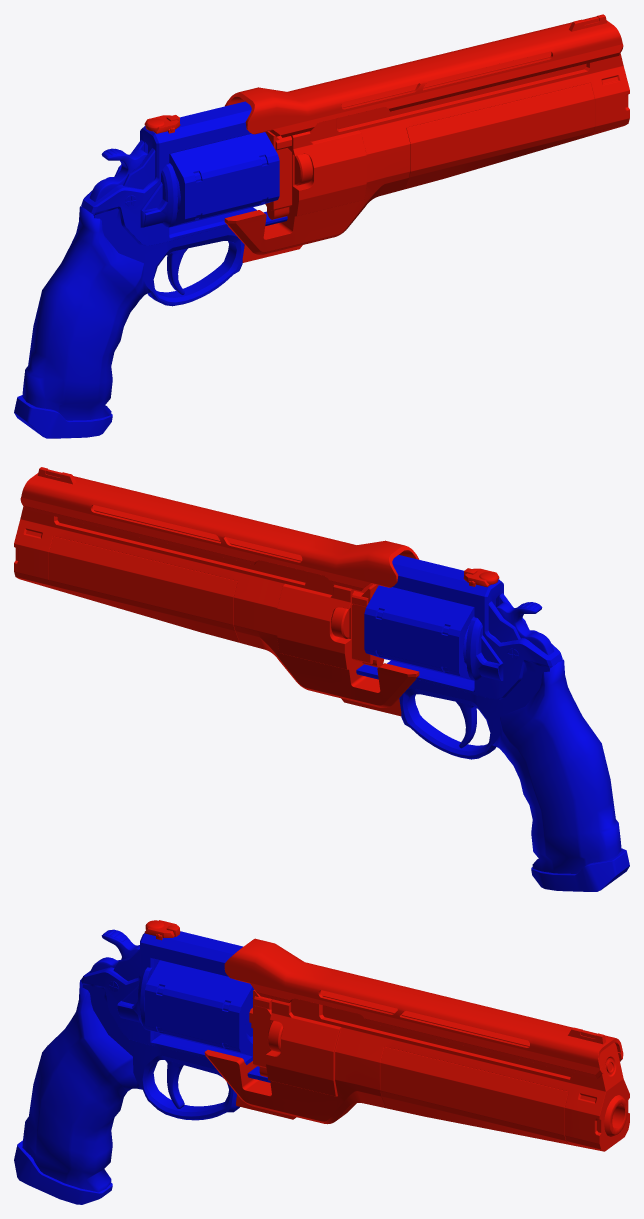
Rendered from ace of spades.fbx.
3 renders of one model, top to bottom at view 1: azimuth 30°, elevation 25°; view 2: azimuth 150°, elevation 25°; view 3: azimuth 330°, elevation 25°, orthographic.
Parts seen in each view (by area): view 1: Object.006, Object.012, Object.003, Object.018, Object.009, Object.015, Object.010, Object.017, Object.001, Object.013, Object.014; view 2: Object.006, Object.012, Object.003, Object.018, Object.009, Object.015, Object.010, Object.017, Object.001, Object.013, Object.014; view 3: Object.006, Object.003, Object.012, Object.009, Object.018, Object.015, Object.010, Object.001, Object.017, Object.007, Object.013, Object (+2 smaller).
Boxes of the visible parts, bbox=[...] form: Object.006: bbox=[224, 51, 629, 254]; Object.012: bbox=[22, 206, 151, 420]; Object.003: bbox=[225, 16, 623, 137]; Object.018: bbox=[81, 101, 287, 306]; Object.009: bbox=[404, 83, 594, 189]; Object.015: bbox=[169, 132, 279, 227]; Object.010: bbox=[14, 395, 112, 438]; Object.017: bbox=[140, 163, 177, 227]; Object.001: bbox=[265, 130, 292, 210]; Object.013: bbox=[89, 149, 147, 201]; Object.014: bbox=[114, 140, 155, 189]; Object.006: bbox=[14, 505, 419, 707]; Object.012: bbox=[492, 659, 621, 873]; Object.003: bbox=[20, 473, 419, 590]; Object.018: bbox=[356, 555, 562, 759]; Object.009: bbox=[49, 536, 239, 642]; Object.015: bbox=[364, 585, 474, 680]; Object.010: bbox=[531, 848, 629, 891]; Object.017: bbox=[466, 616, 503, 680]; Object.001: bbox=[351, 583, 378, 664]; Object.013: bbox=[496, 602, 554, 655]; Object.014: bbox=[488, 593, 529, 642]; Object.006: bbox=[204, 990, 629, 1151]; Object.003: bbox=[224, 938, 623, 1078]; Object.012: bbox=[22, 978, 141, 1192]; Object.009: bbox=[380, 1046, 569, 1144]; Object.018: bbox=[81, 931, 270, 1120]; Object.015: bbox=[145, 960, 254, 1056]; Object.010: bbox=[14, 1140, 112, 1204]; Object.001: bbox=[253, 989, 272, 1067]; Object.017: bbox=[117, 967, 152, 1030]; Object.007: bbox=[604, 1095, 627, 1136]; Object.013: bbox=[90, 931, 139, 972]; Object: bbox=[165, 1060, 184, 1108].
Size of the model in its own units: 47.91 by 22.3 by 5.58.
